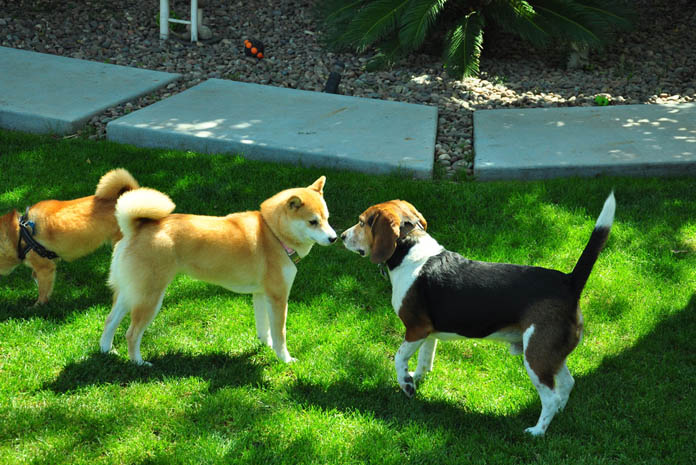tail: (567, 187, 618, 291)
